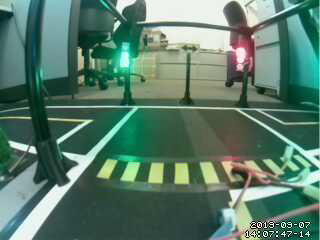Left_Right_sign: (177, 42, 204, 55)
Traffic_light_green: (118, 42, 128, 74)
Traffic_light_red: (237, 47, 247, 72)
